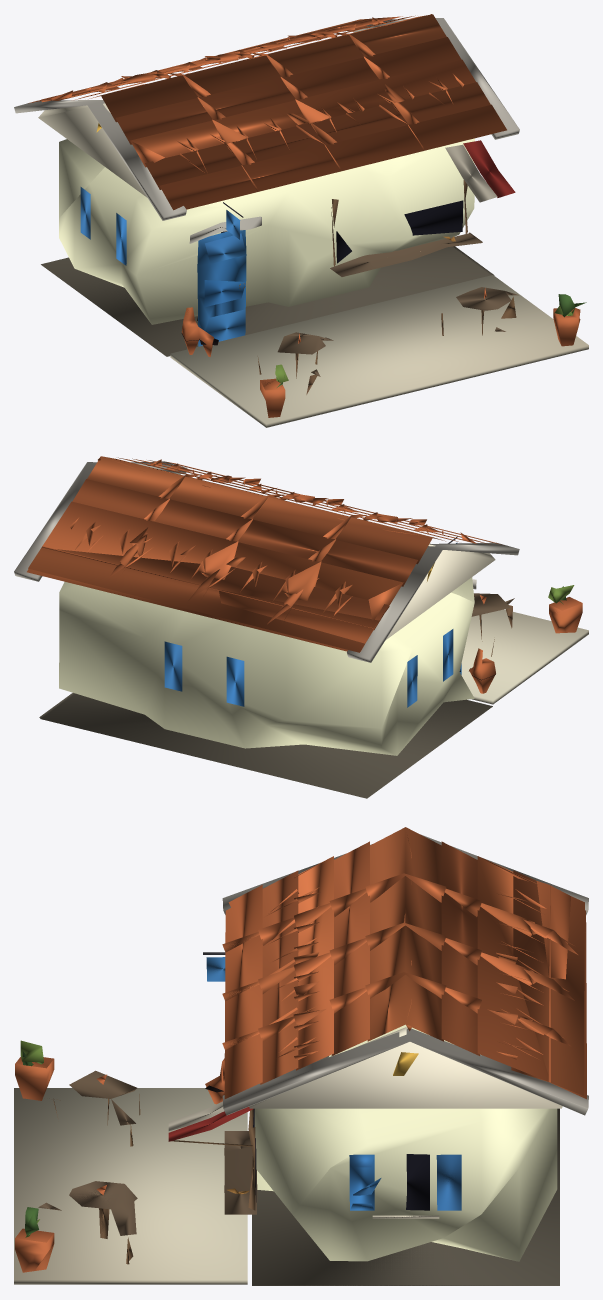
File: biz_cafe_t1.glb
The picture shows the model from 3 angles, top to bottom: view 1: azimuth 30°, elevation 25°; view 2: azimuth 150°, elevation 25°; view 3: azimuth 270°, elevation 25°; orthographic projection. The views are drawn at different scales.
Parts seen in each view (by area): view 1: plaster, paving, terracotta0, terracotta1, terracotta2, stone_dark, azure_wood, marble, wood, cream, terracotta, dark (+3 smaller); view 2: plaster, terracotta1, terracotta0, stone_dark, terracotta2, paving, marble, cream, azure_wood, terracotta, wood; view 3: paving, plaster, terracotta1, terracotta0, terracotta2, stone_dark, cream, marble, wood, azure_wood, terracotta, dark (+3 smaller).
Part boxes in pixels (x1,y1,x2,y2): plaster: [59, 138, 474, 324]; paving: [170, 275, 588, 427]; terracotta0: [32, 15, 506, 210]; terracotta1: [28, 14, 490, 191]; terracotta2: [41, 16, 475, 172]; stone_dark: [41, 246, 494, 356]; azure_wood: [80, 187, 246, 346]; marble: [14, 18, 519, 243]; wood: [277, 232, 518, 376]; cream: [38, 31, 359, 197]; terracotta: [181, 288, 580, 417]; dark: [197, 200, 463, 320]; plaster: [59, 577, 474, 755]; terracotta1: [28, 456, 489, 652]; terracotta0: [27, 457, 501, 651]; stone_dark: [39, 693, 492, 798]; terracotta2: [42, 458, 476, 640]; paving: [461, 609, 588, 704]; marble: [14, 461, 519, 662]; cream: [175, 473, 495, 639]; azure_wood: [164, 542, 461, 707]; terracotta: [469, 595, 582, 693]; wood: [471, 593, 514, 616]; paving: [14, 1088, 247, 1284]; plaster: [254, 1024, 557, 1261]; terracotta1: [222, 827, 584, 1095]; terracotta0: [222, 841, 586, 1099]; terracotta2: [222, 856, 577, 1082]; stone_dark: [252, 1108, 559, 1285]; cream: [249, 1027, 562, 1218]; marble: [222, 834, 588, 1115]; wood: [38, 1070, 257, 1235]; azure_wood: [206, 957, 461, 1210]; terracotta: [15, 1056, 224, 1272]; dark: [253, 1108, 429, 1210].
Size of the model in its own units: 7.29 by 4.26 by 8.36.
